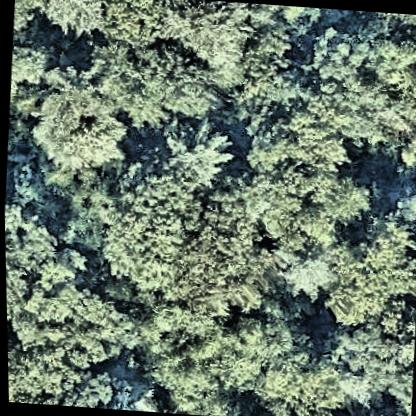tree-top: (85, 32, 215, 132), (310, 23, 416, 142), (168, 195, 269, 319), (11, 277, 139, 367), (24, 80, 133, 176), (196, 298, 296, 398), (245, 160, 352, 250), (226, 20, 323, 110), (98, 193, 186, 292), (122, 298, 204, 392), (328, 314, 410, 406), (248, 107, 353, 174), (151, 112, 235, 188), (269, 340, 351, 416), (167, 0, 247, 75), (98, 0, 192, 48), (6, 340, 74, 405), (307, 164, 374, 229), (275, 242, 342, 306), (355, 206, 416, 275), (4, 201, 62, 273), (321, 272, 390, 330), (37, 0, 114, 37), (9, 34, 54, 91), (173, 387, 253, 416), (65, 359, 110, 409), (257, 3, 328, 28), (114, 386, 173, 414), (5, 258, 27, 330), (11, 0, 39, 38), (398, 174, 416, 231), (374, 11, 416, 31), (353, 406, 406, 416)
